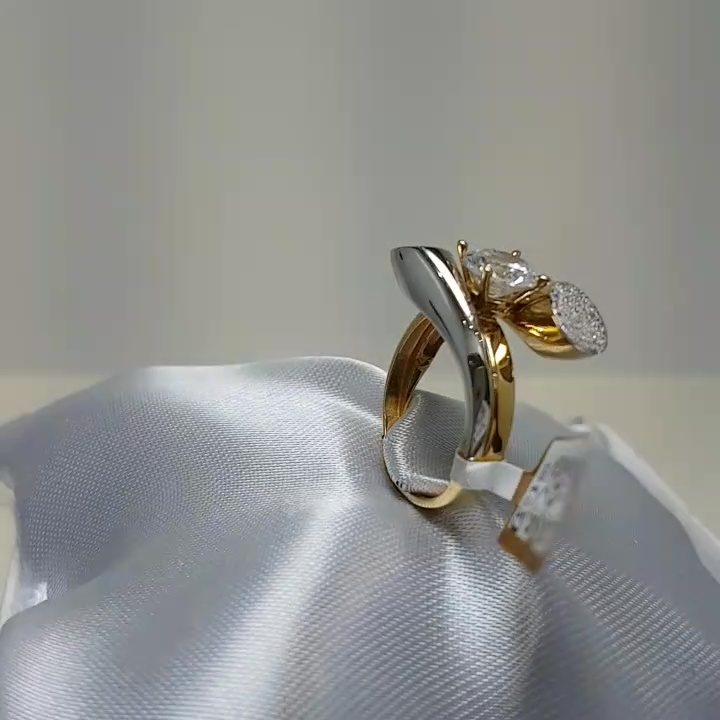Ring 7: (347, 213, 611, 565)
